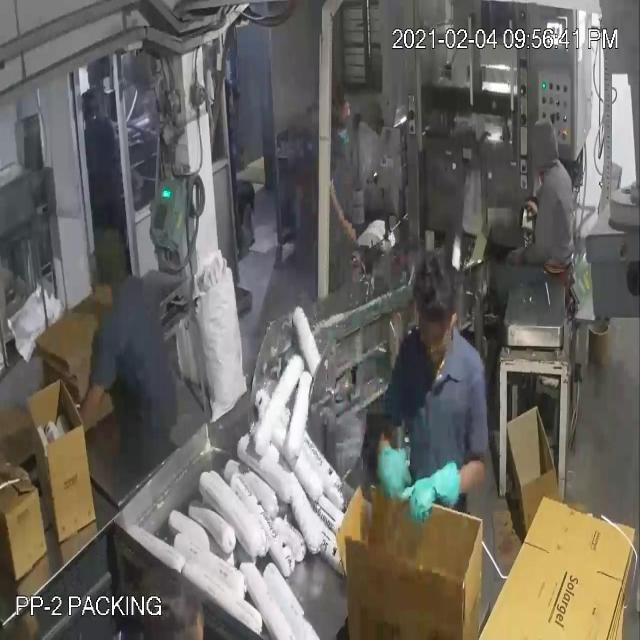gloves: (410, 448, 488, 531), (376, 428, 418, 510)
no-gloves: (55, 368, 107, 449), (320, 172, 357, 242)
